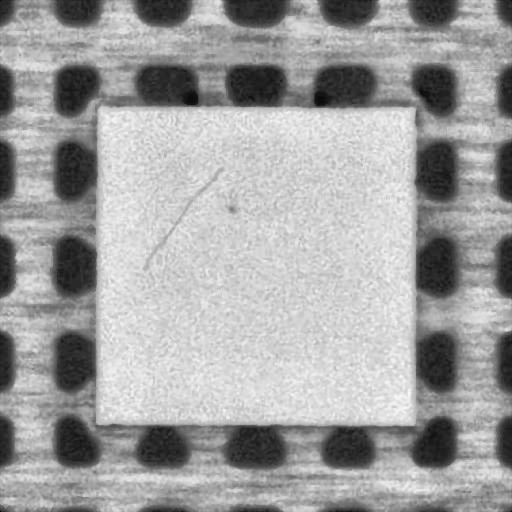DIE_CRACK: (141, 161, 225, 267)
